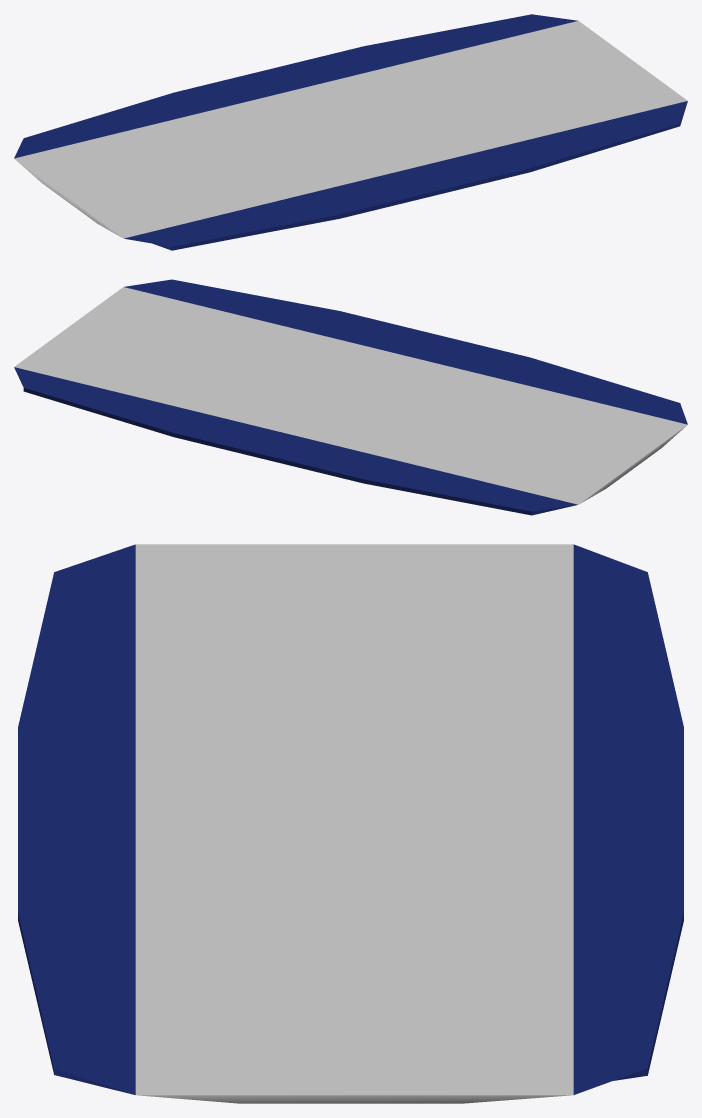
The model's file is ticketmodel.fbx.
3 renders of one model, top to bottom at view 1: azimuth 30°, elevation 25°; view 2: azimuth 150°, elevation 25°; view 3: azimuth 270°, elevation 25°, orthographic. The views are drawn at different scales.
Visible parts, largest first — view 1: Ticket; view 2: Ticket; view 3: Ticket.
Boxes of the visible parts, bbox=[...] form: Ticket: bbox=[14, 14, 687, 250]; Ticket: bbox=[14, 279, 687, 515]; Ticket: bbox=[18, 544, 683, 1103].
Bounding box in the file's own units: 48.95 × 0.352 × 25.
